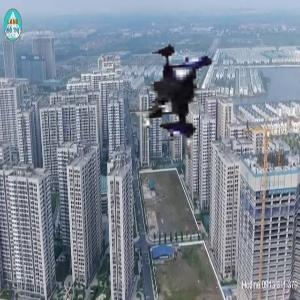drone: (119, 11, 281, 173)
